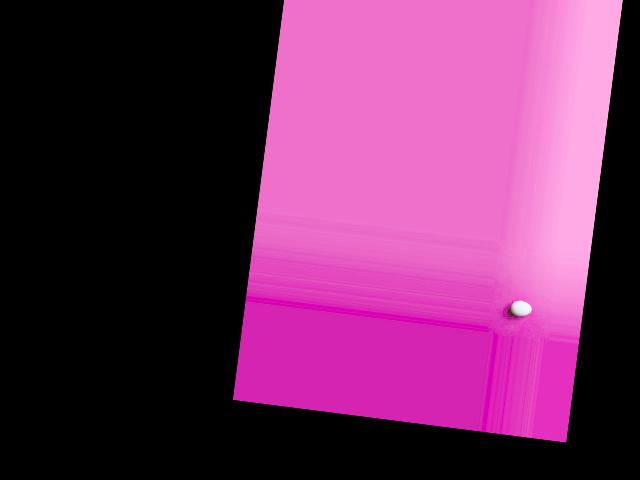egg: (509, 299, 532, 316)
